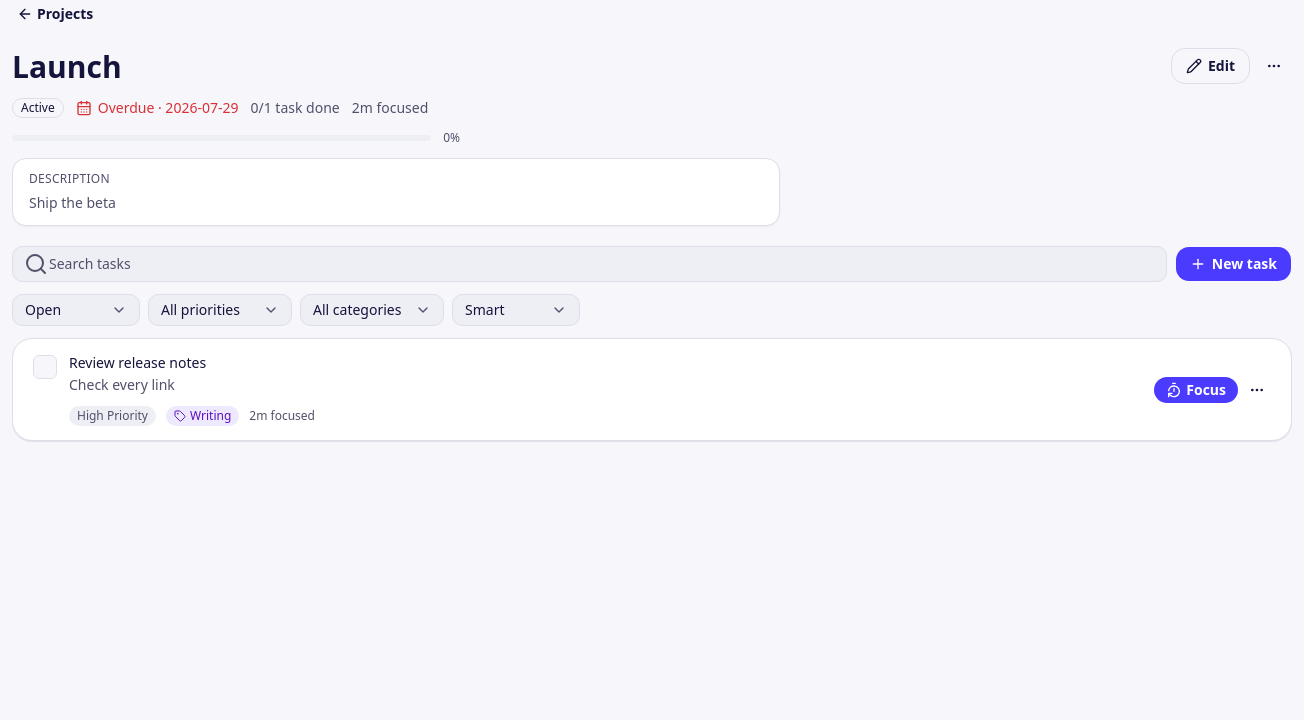
ProjectDetailPage › searches tasks and clears filters
The image size is (1304, 720).
Type "missing" into the search field labelled "Search tasks" at (589, 264), box [12, 246, 1167, 282]
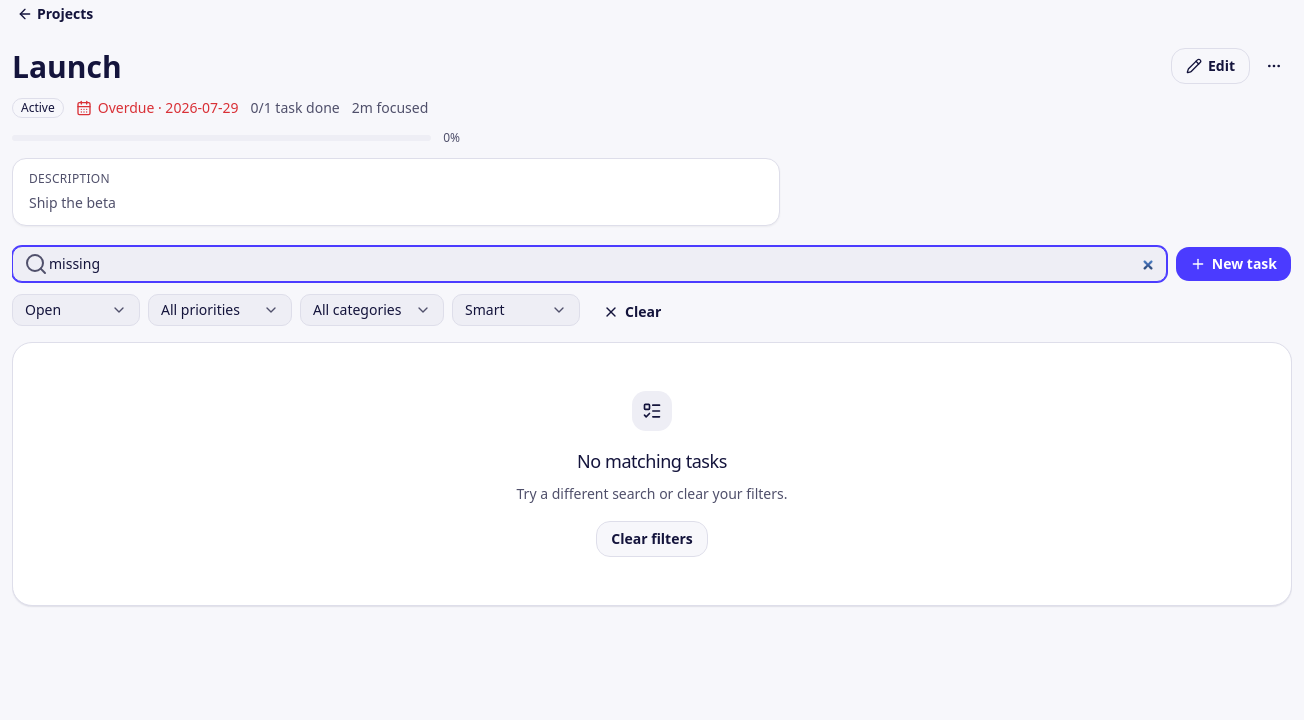
Expected: the text "No matching tasks" is shown, [577, 446, 727, 474]
Click the button "Clear" at (632, 312), box [588, 294, 676, 330]
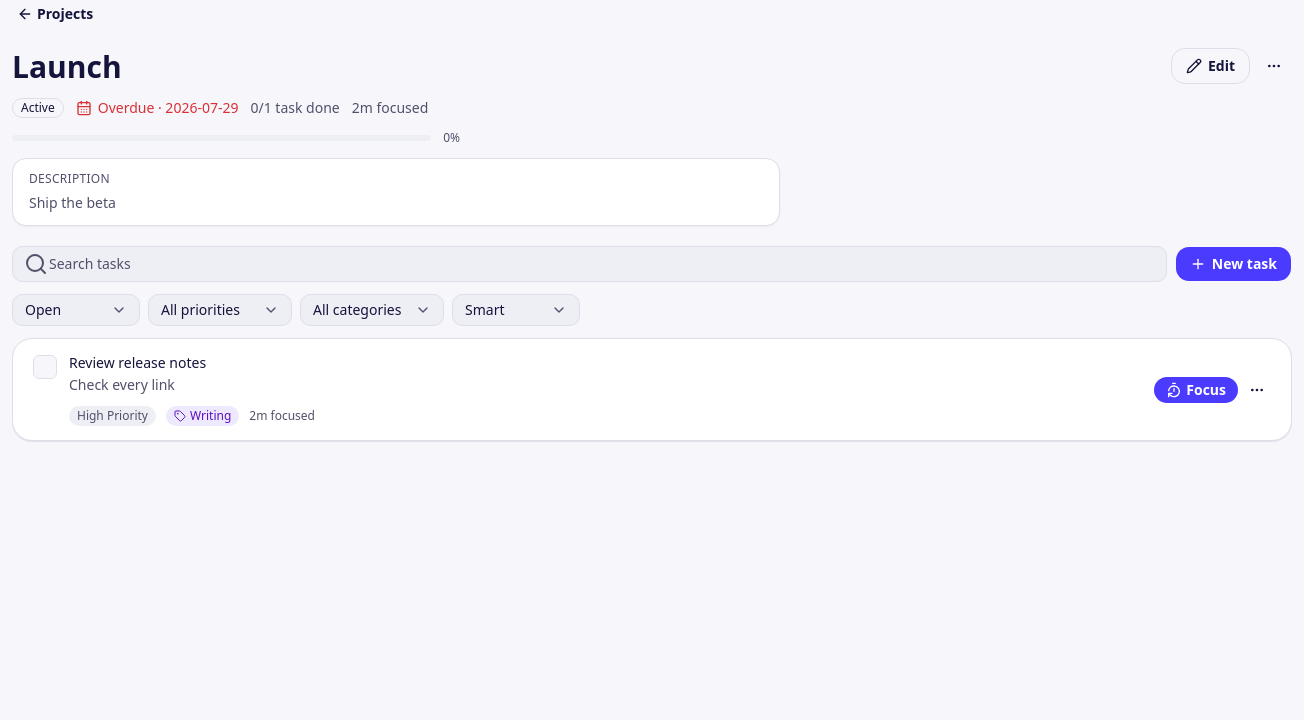
Expected: the search field labelled "Search tasks" is empty, [12, 246, 1167, 282]
